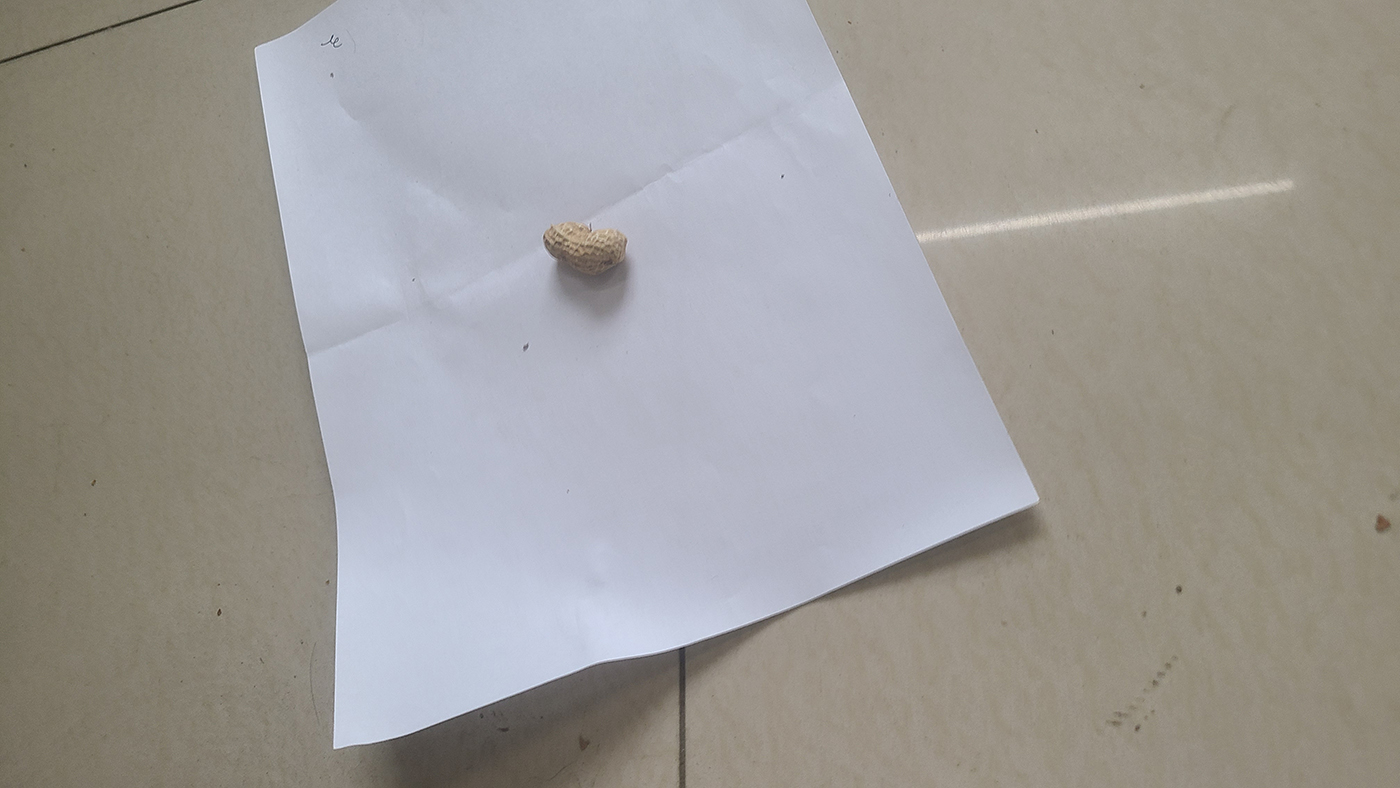h: (542, 220, 627, 274)
